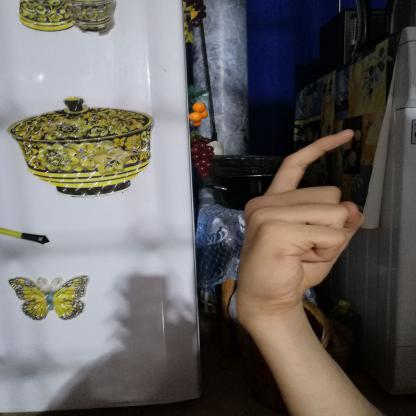RAA: (226, 121, 374, 322)
